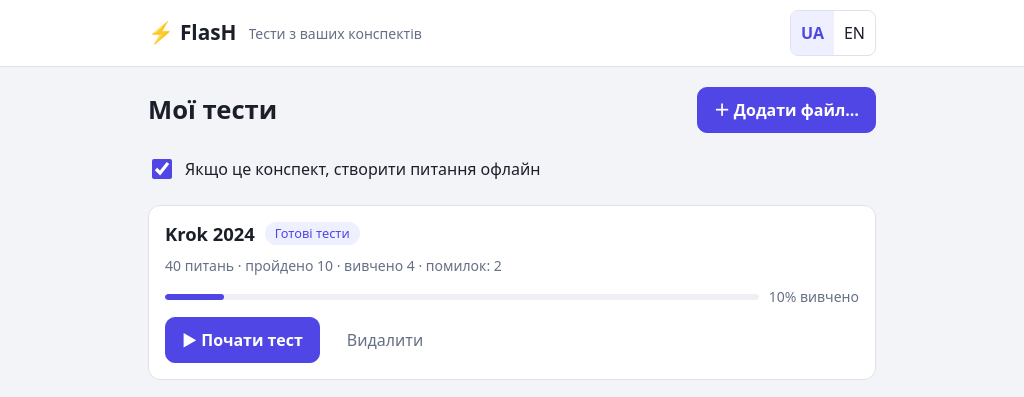
Test: App › switches language and remembers it
The width and height of the screenshot is (1024, 397).
expect the heading "Мої тести" is shown: met, box x1=148 y1=94 x2=277 y2=126
Click the button "EN" at (854, 33), box x1=834 y1=11 x2=875 y2=55
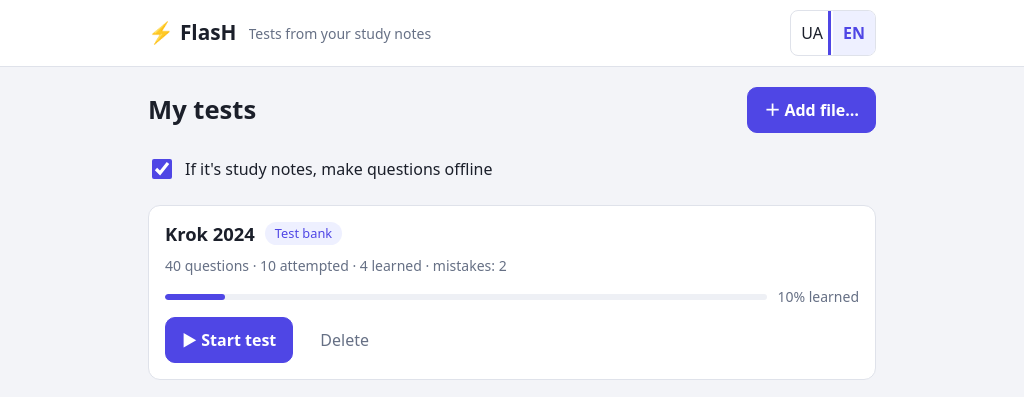
expect the heading "My tests" is shown: met, box x1=148 y1=94 x2=256 y2=126
